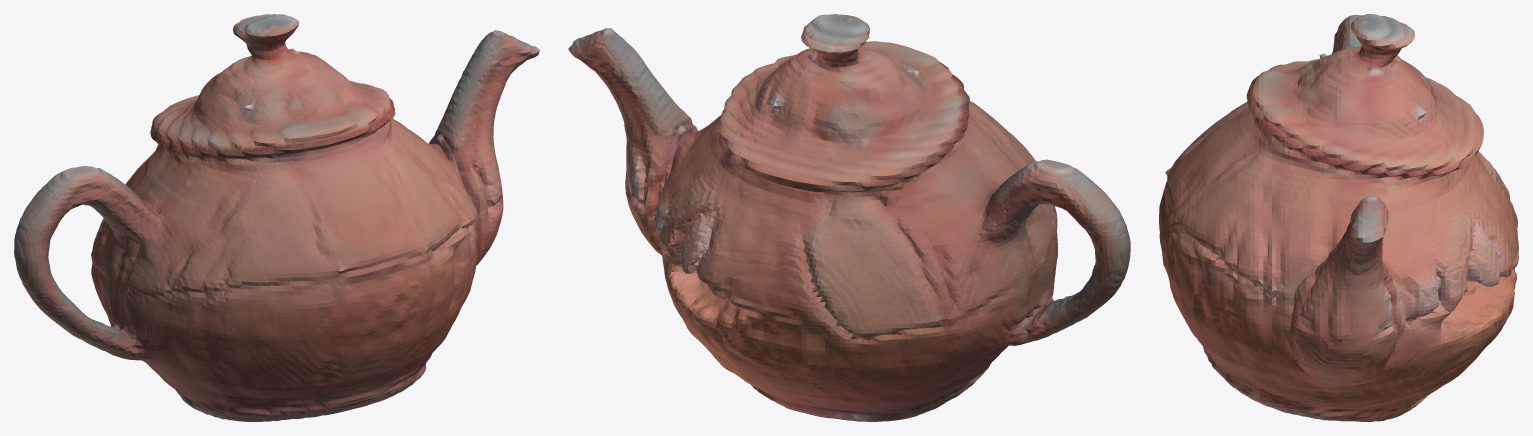
File: tmpqp6ijwht.glb
3 renders of one model, left to right at view 1: azimuth 30°, elevation 25°; view 2: azimuth 150°, elevation 25°; view 3: azimuth 270°, elevation 25°, orthographic. The views are drawn at different scales.
Parts seen in each view (by area): view 1: world; view 2: world; view 3: world.
Part boxes in pixels (bbox=[...]): world: bbox=[14, 14, 539, 421]; world: bbox=[568, 14, 1130, 421]; world: bbox=[1159, 14, 1518, 421].
Size of the model in its own units: 0.9602 by 0.6314 by 0.5663.
